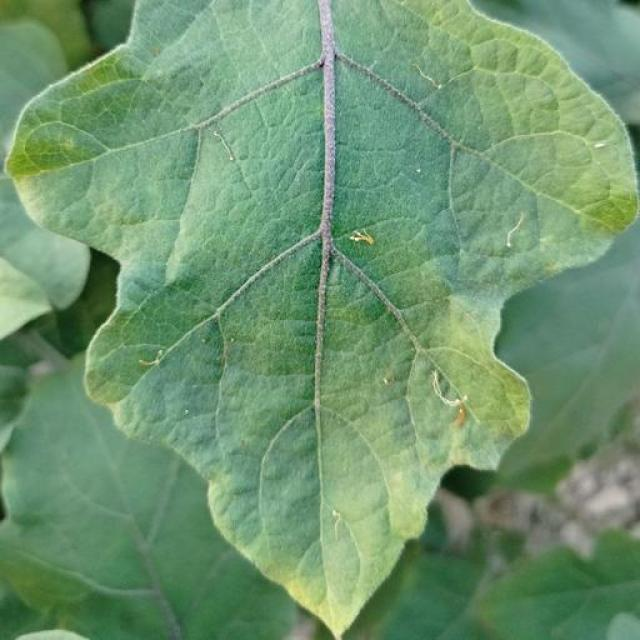leaf_spot: (241, 524, 359, 631), (42, 142, 113, 165)
